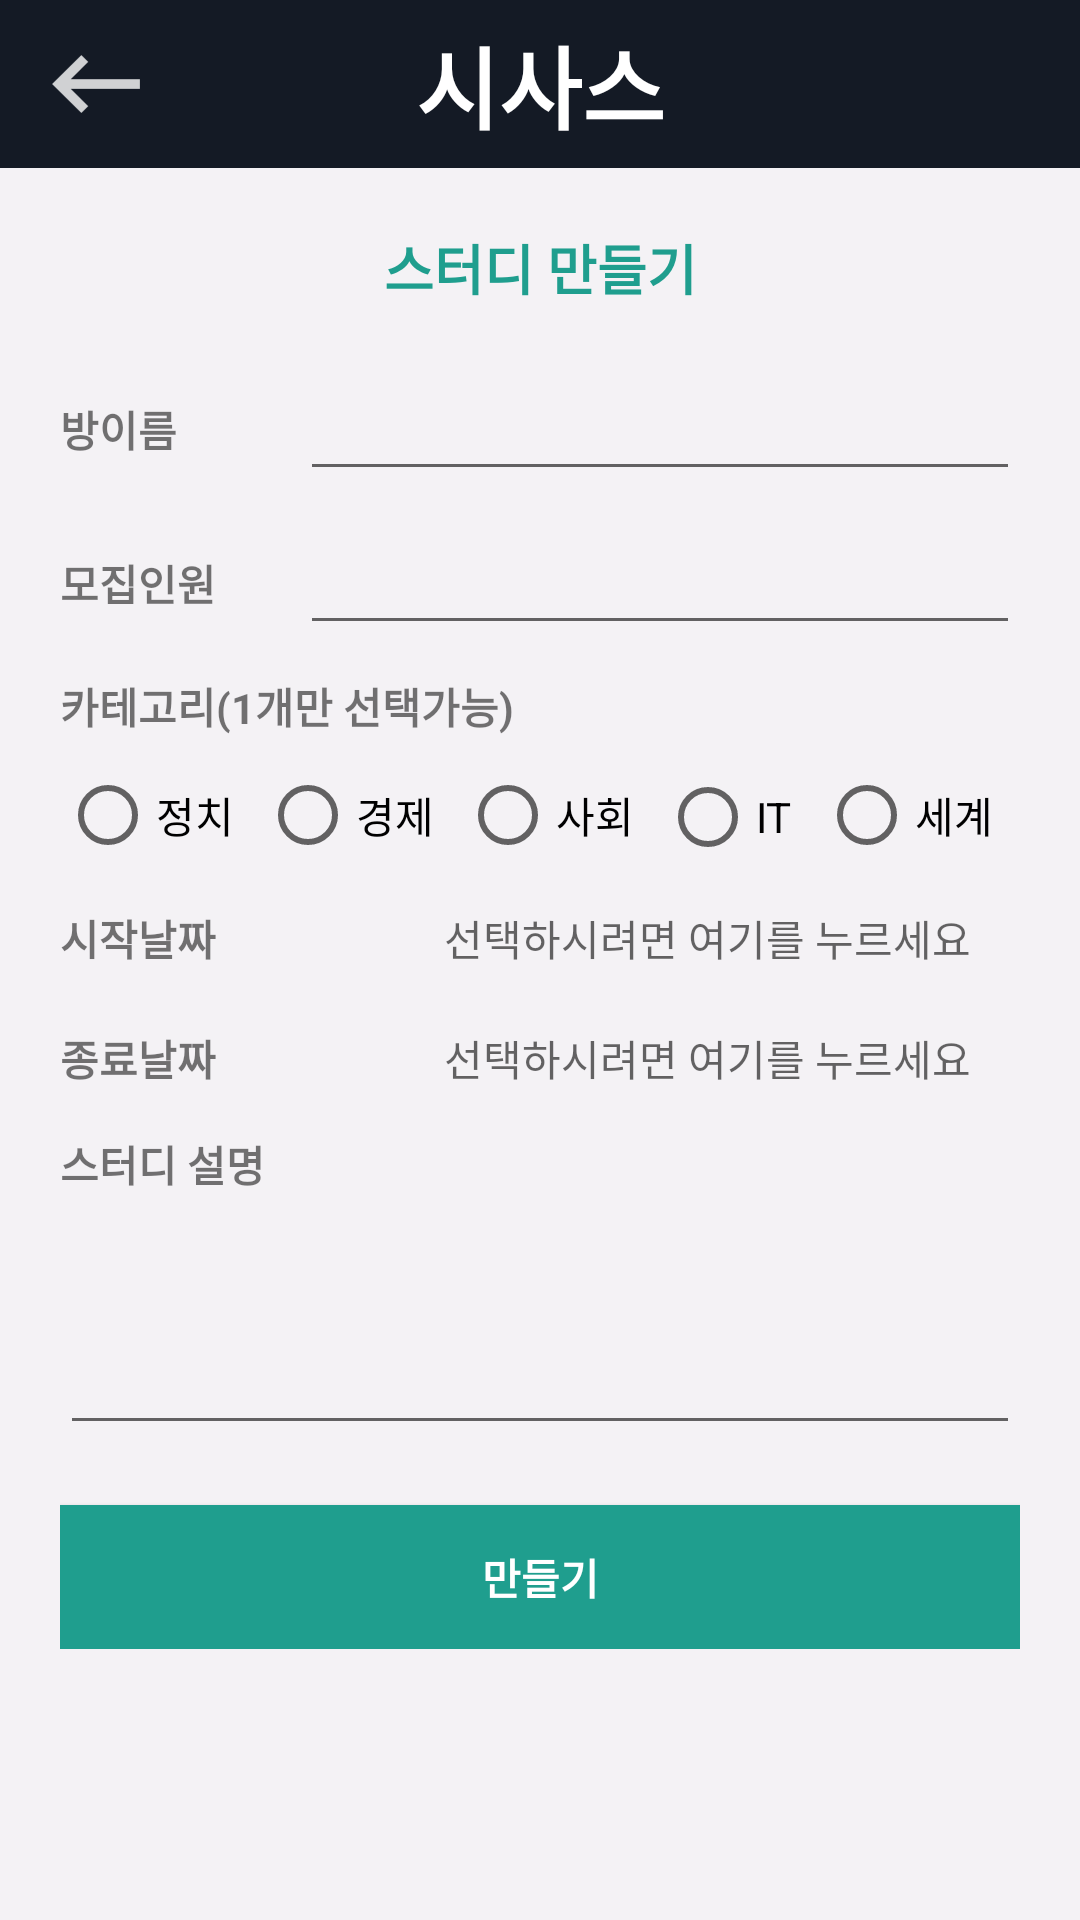

Named icons in this screenshot (1080×1920) and their centers, (x,y):
back: (96,84)
